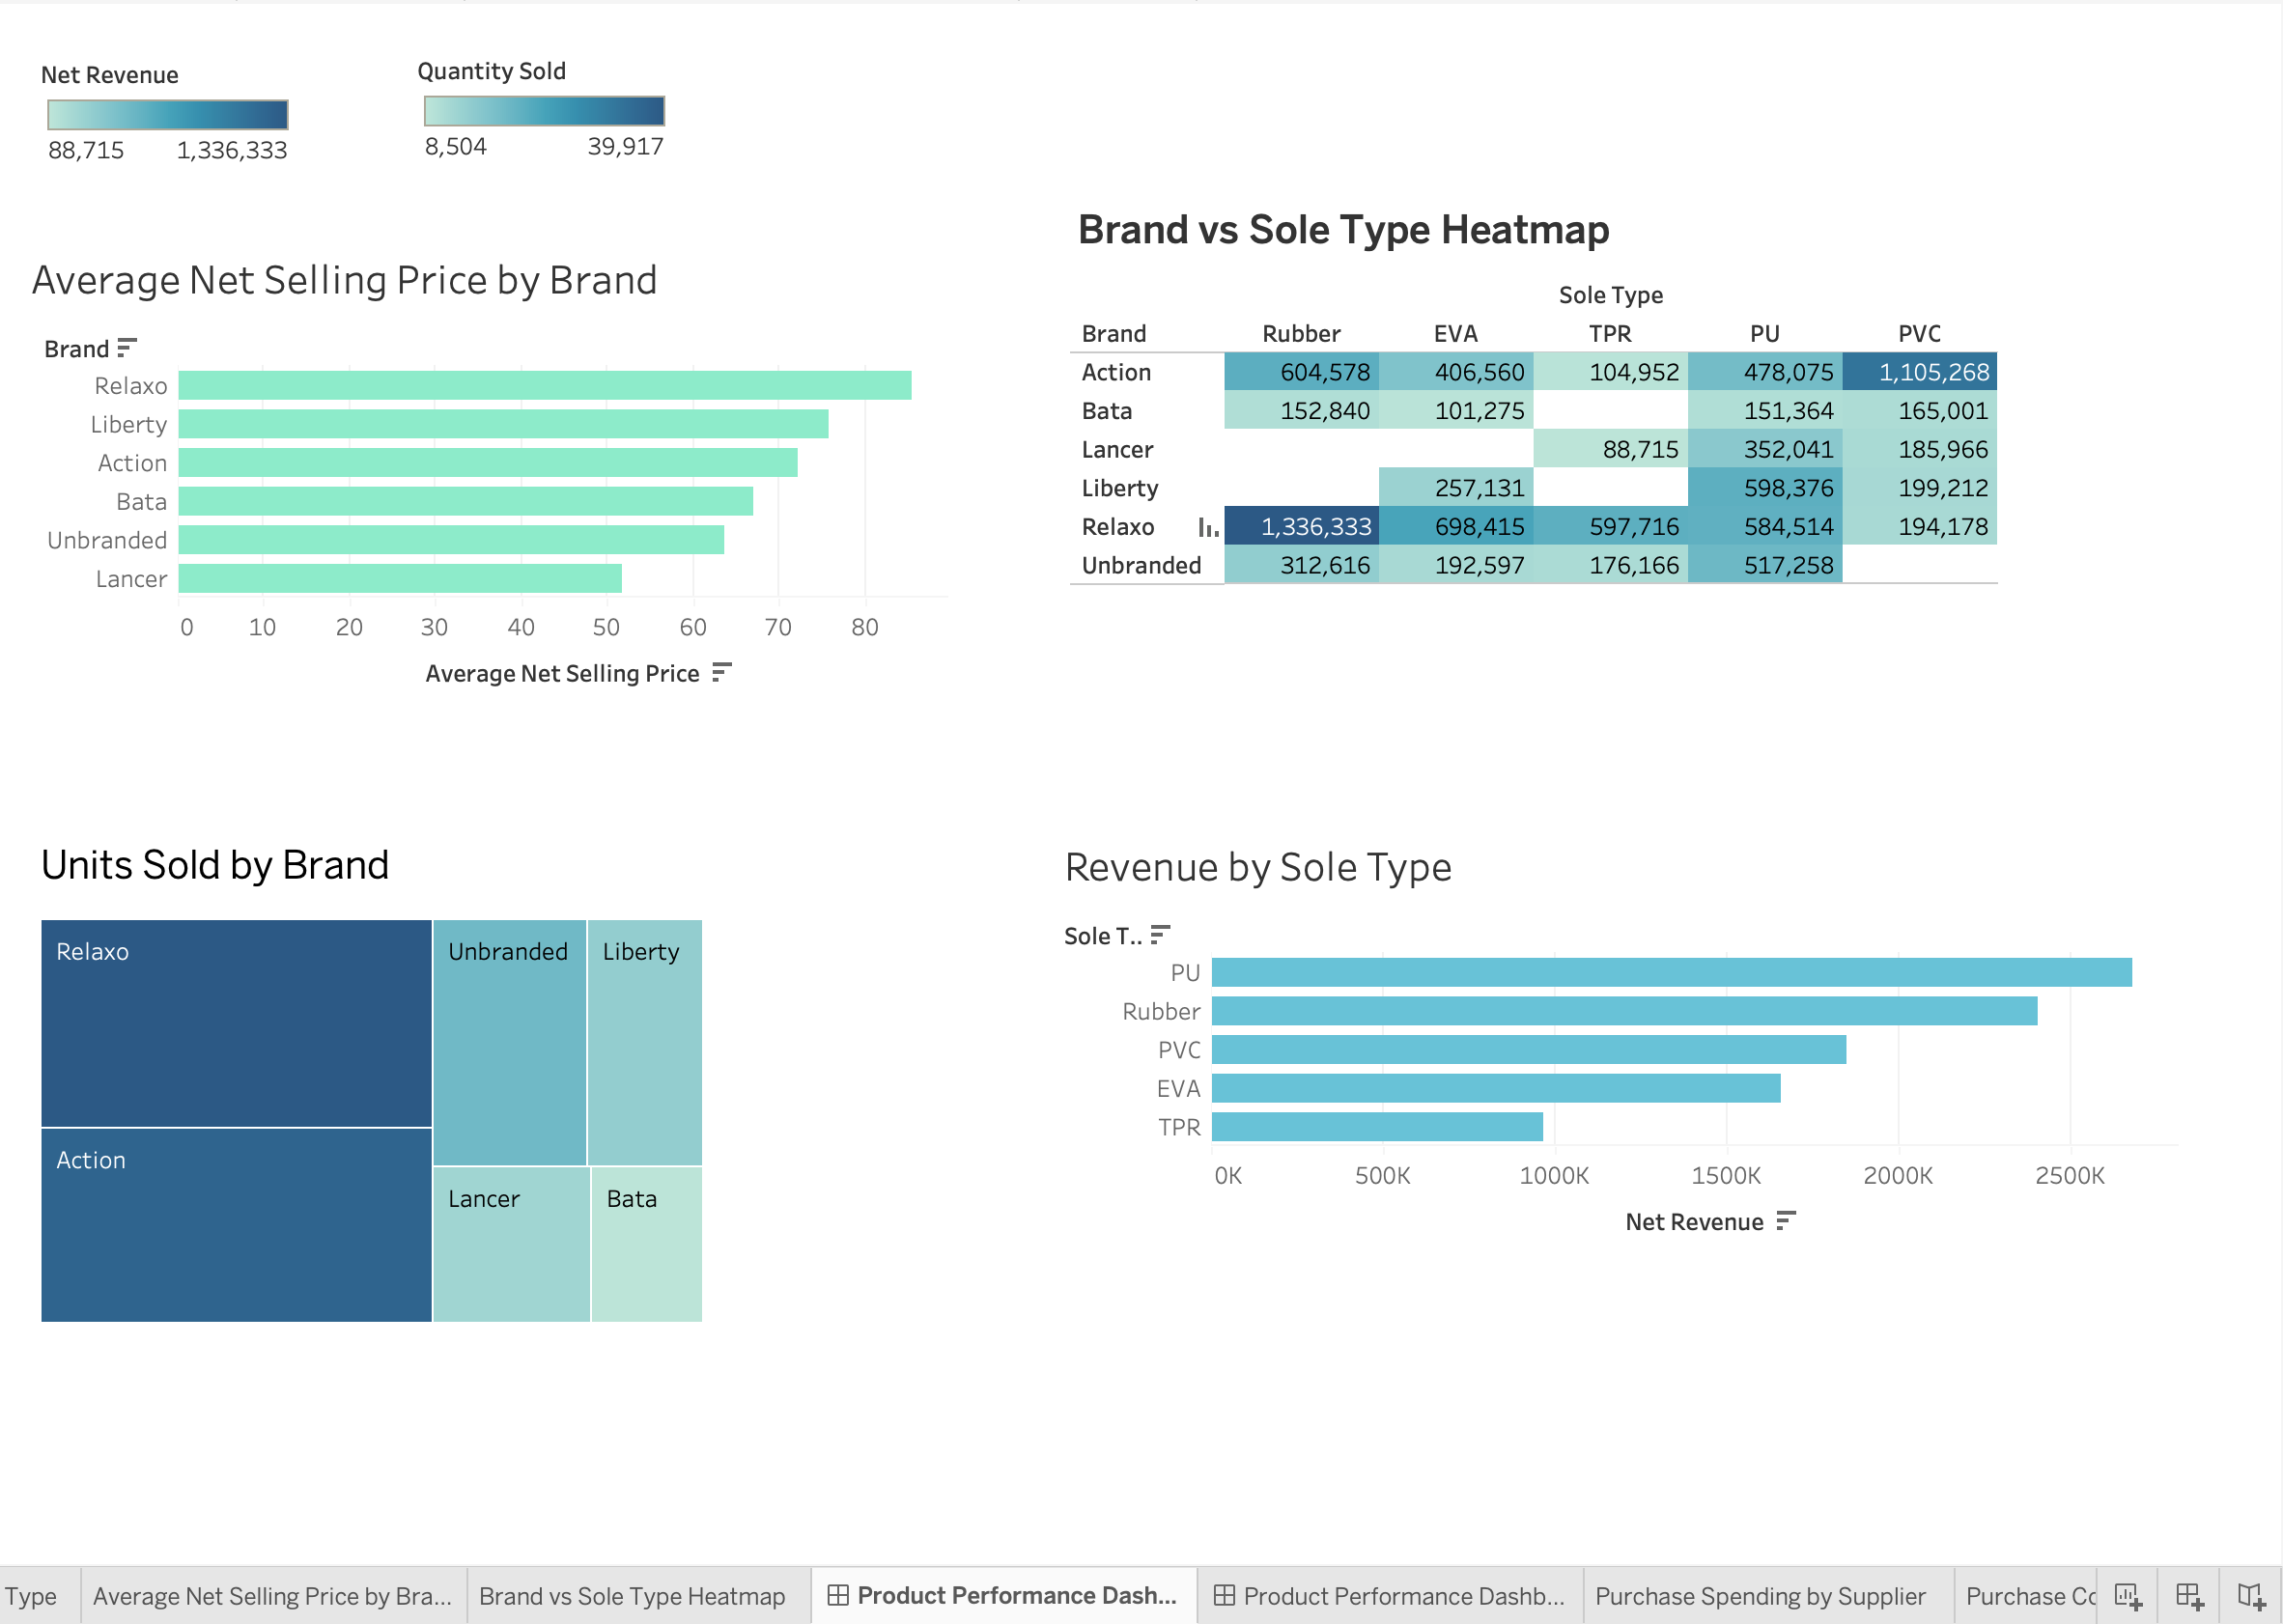

What the dashboard file says about the page in this screenshot:
{"tool":"tableau","page":{"name":"Product Performance Dashboard (2)","canvas":[1000,1000],"units":"permille","ordinal":3},"visuals":[{"type":"title","box":[6.7,10.7,986.6,57.3]},{"type":"legend","title":"Brand vs Sole Type Heatmap","param":"[federated.06404wm1c7xw5b16mfr1f11y7vg6].[sum:Calculation_4306568915099648:qk]","box":[28,74.7,111.9,101.3]},{"type":"legend","title":"Units Sold by Brand","param":"[federated.06404wm1c7xw5b16mfr1f11y7vg6].[sum:quantity_sold:qk]","box":[201.4,81.3,111.9,101.3]},{"type":"worksheet","title":"Brand vs Sole Type Heatmap","mark":"Square","rows":["brand"],"cols":["sole_type"],"box":[473.2,148,481.2,360]},{"type":"worksheet","title":"Average Net Selling Price by Brand","mark":"Automatic","rows":["brand"],"cols":["Calculation_4306568930816001"],"box":[12.8,181.3,402.1,381.3]},{"type":"worksheet","title":"Revenue by Sole Type","mark":"Automatic","rows":["sole_type"],"cols":["Calculation_4306568915099648"],"box":[467.6,529.3,487.6,422.7]},{"type":"worksheet","title":"Units Sold by Brand","mark":"Automatic","box":[22.4,530.7,450,320]},{"type":"filter","title":"Units Sold by Brand","param":"[federated.06404wm1c7xw5b16mfr1f11y7vg6].[none:brand:nk]","box":[298.2,593.3,140.7,254.7]}]}

Visuals, with their boxes on the dashboard's canvas, which has no fixed pixel size, in thousandths of its width and height (x1, y1, x2, y2). These are canvas units, not pixel positions in the 2283x1624 screenshot, which may show the page scaled, cropped or inside an application window:
title: {"left": 7, "top": 11, "right": 993, "bottom": 68}
"Brand vs Sole Type Heatmap" legend: {"left": 28, "top": 75, "right": 140, "bottom": 176}
"Units Sold by Brand" legend: {"left": 201, "top": 81, "right": 313, "bottom": 183}
"Brand vs Sole Type Heatmap" worksheet (Square marks): {"left": 473, "top": 148, "right": 954, "bottom": 508}
"Average Net Selling Price by Brand" worksheet: {"left": 13, "top": 181, "right": 415, "bottom": 563}
"Revenue by Sole Type" worksheet: {"left": 468, "top": 529, "right": 955, "bottom": 952}
"Units Sold by Brand" worksheet: {"left": 22, "top": 531, "right": 472, "bottom": 851}
"Units Sold by Brand" filter: {"left": 298, "top": 593, "right": 439, "bottom": 848}
